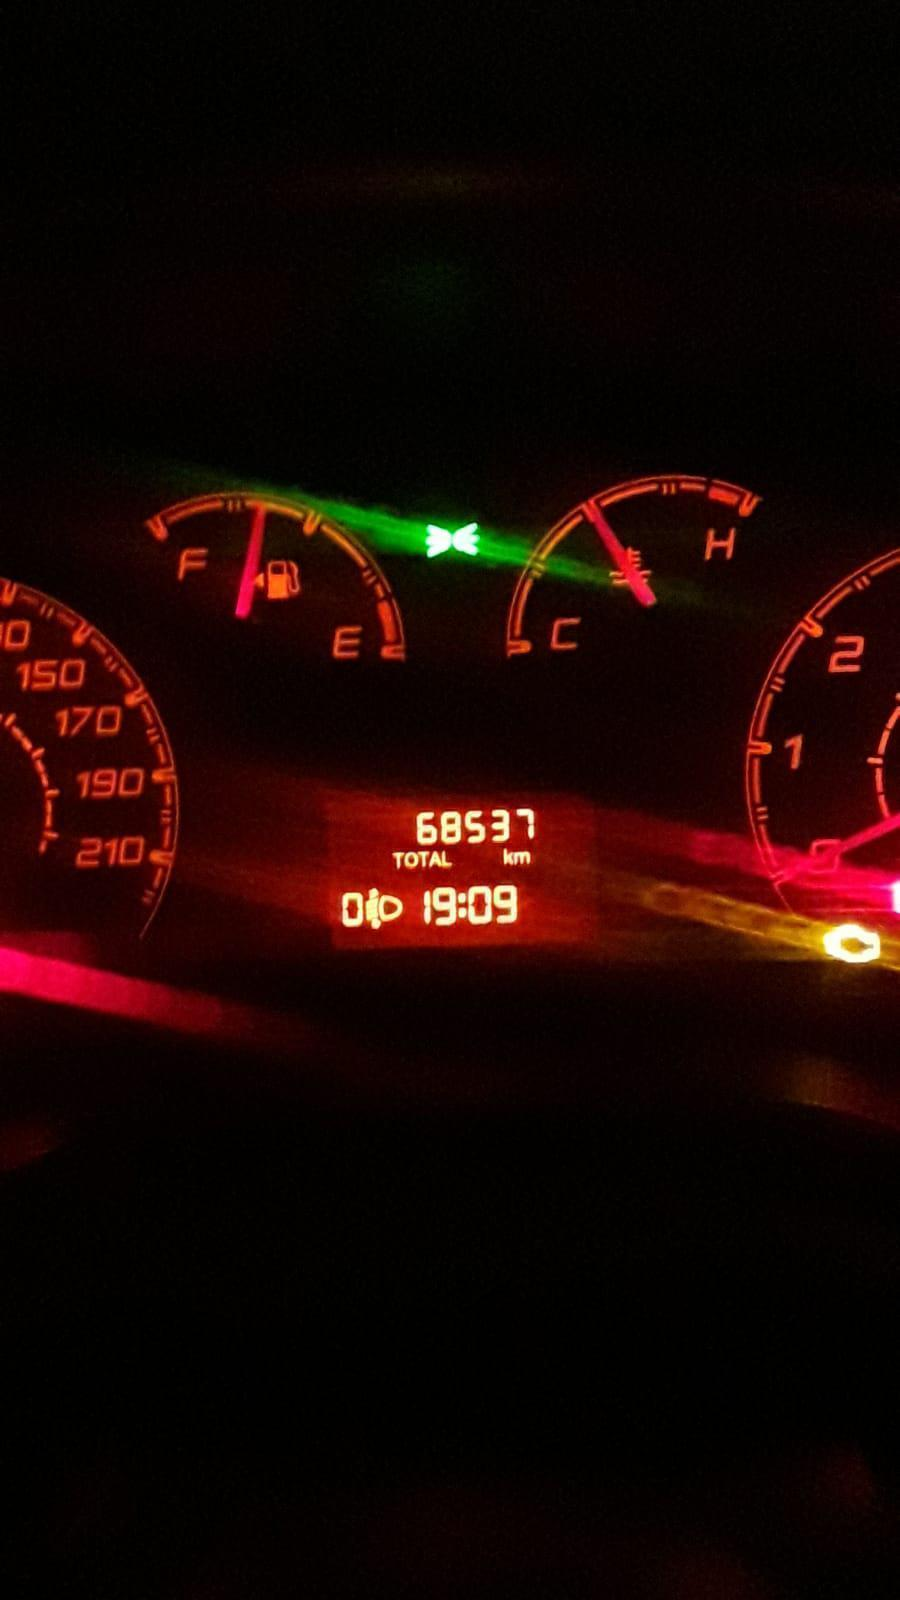0: (468, 884, 492, 925), (340, 890, 363, 927)
1: (421, 888, 431, 927)
3: (489, 805, 512, 844)
5: (464, 807, 486, 844)
6: (414, 809, 438, 845)
7: (516, 805, 535, 840)
8: (440, 808, 463, 844)
9: (431, 885, 457, 927), (493, 882, 519, 926)
X: (456, 889, 468, 922), (390, 851, 404, 871), (499, 847, 514, 866), (440, 851, 454, 868), (404, 851, 418, 869), (429, 849, 442, 868), (418, 849, 430, 868), (515, 848, 530, 864)
odometer: (310, 787, 614, 949)
